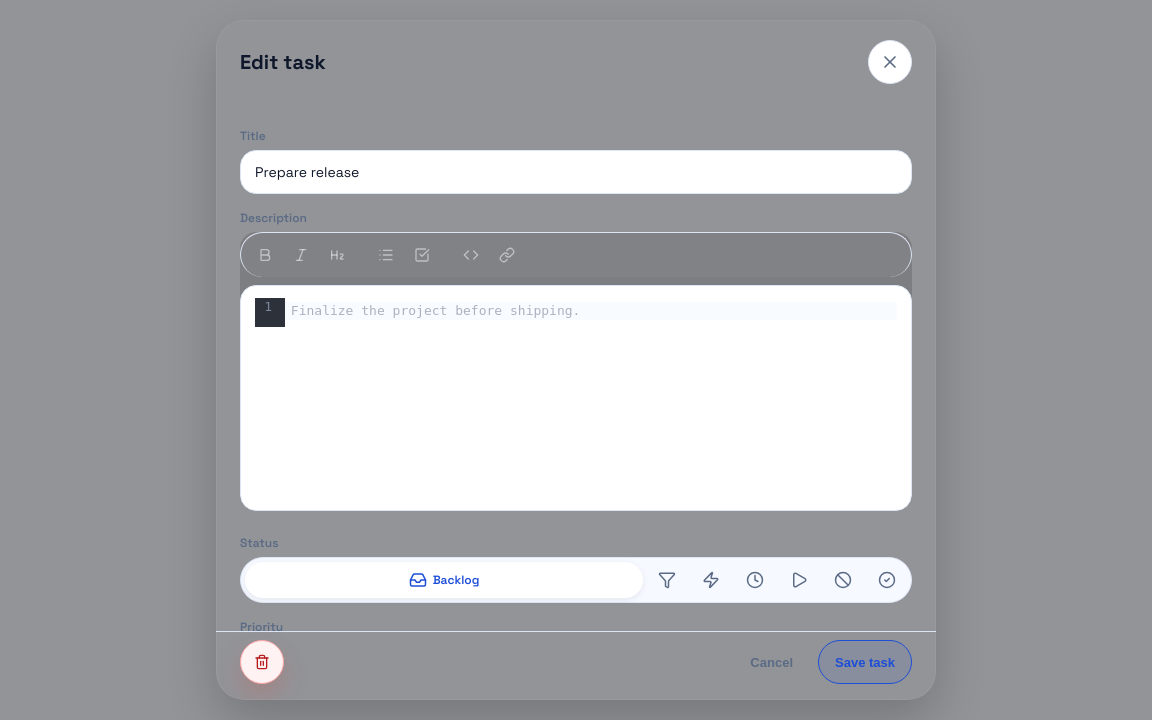
Scenario: KanbanTaskEditorModal › lets the user dismiss the delete confirmation modal without removing the task
The width and height of the screenshot is (1152, 720).
Click the button named "Delete task" at (262, 662), box [240,640,284,684]
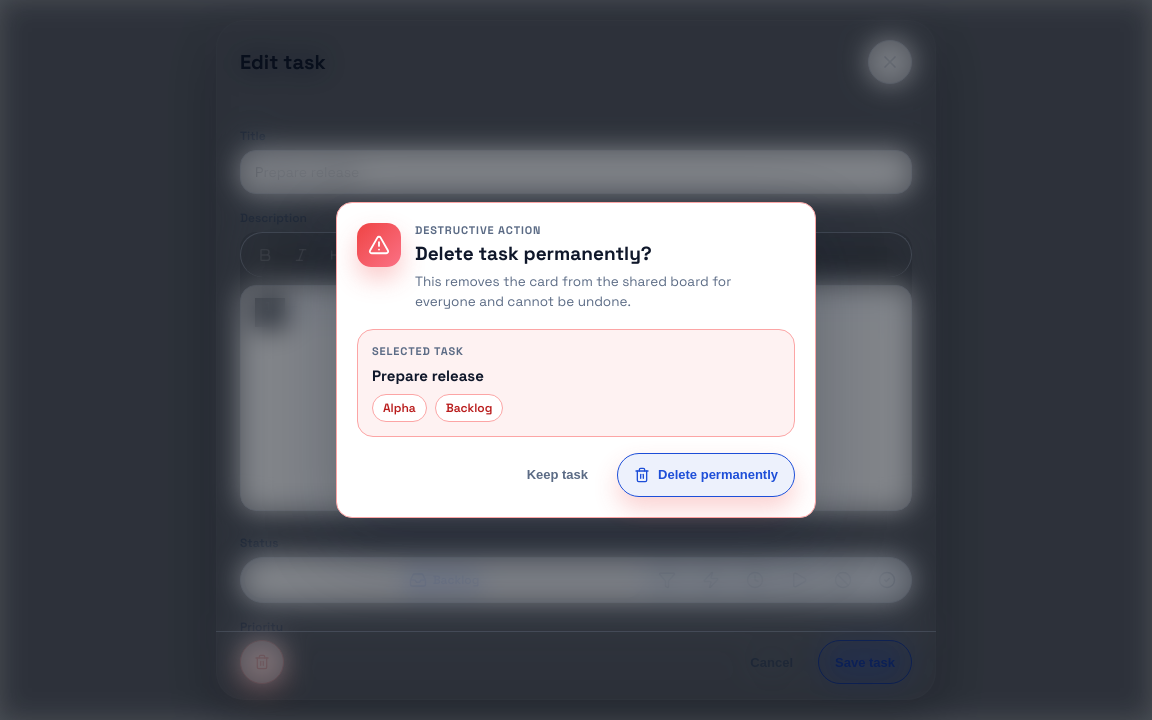
Click the button "Keep task" at (557, 475), box [510,453,605,497]
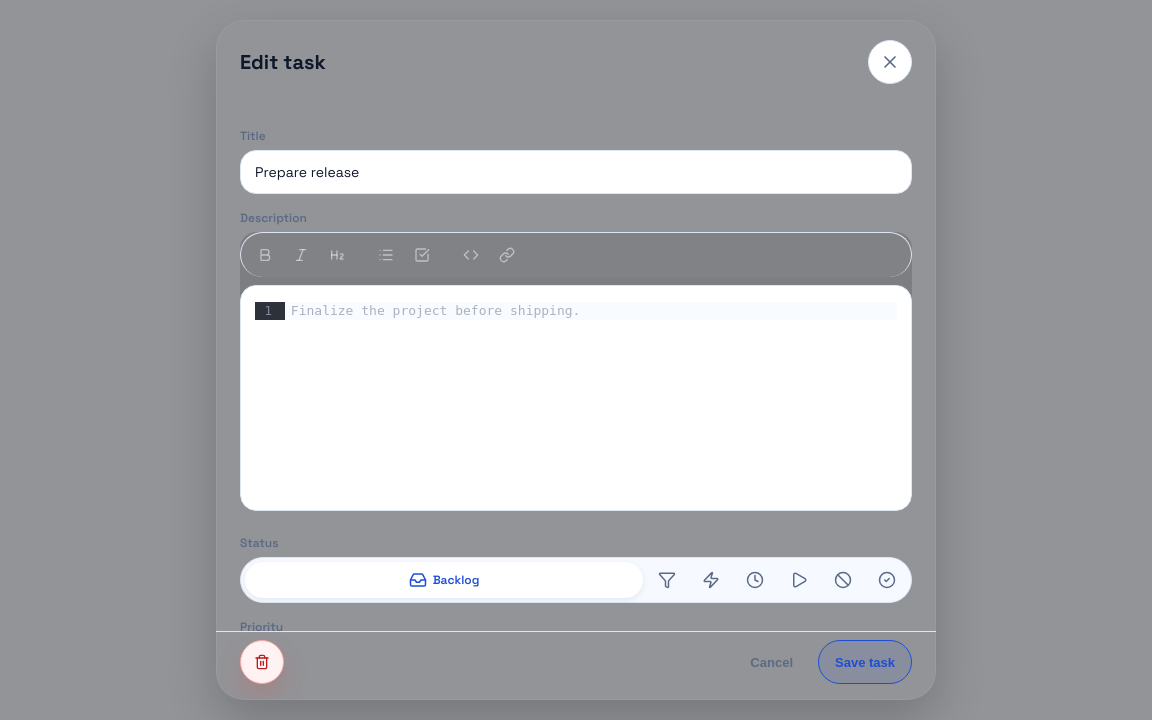
Expected: the heading "Delete task permanently?" is gone
